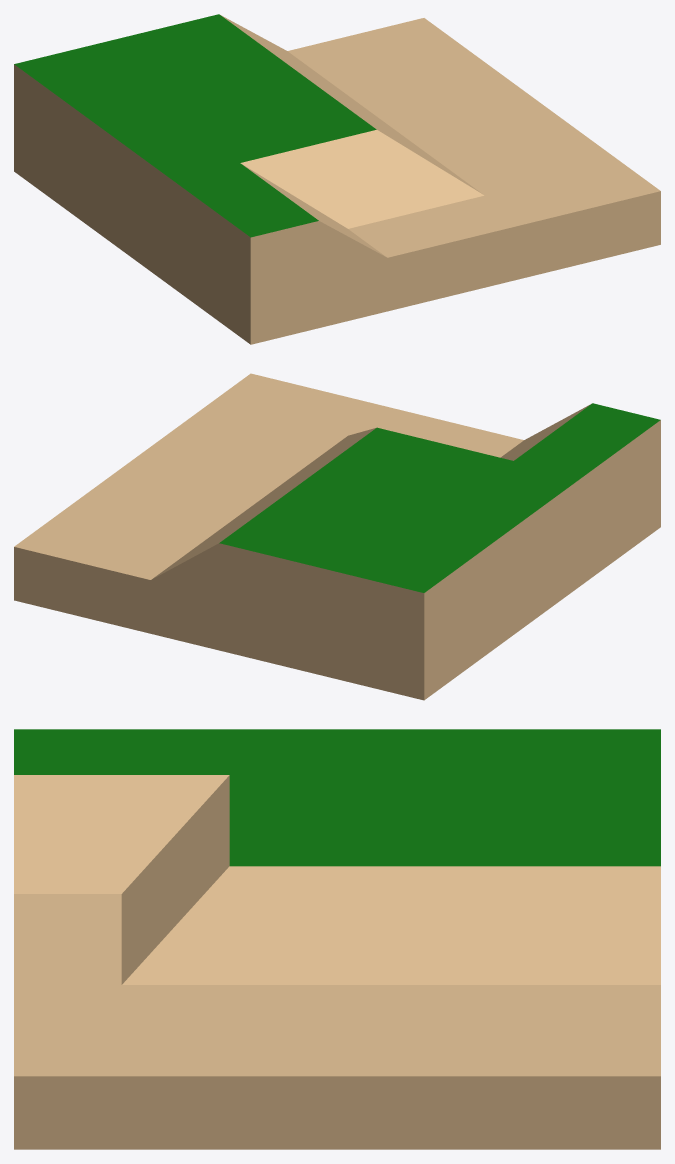
The model's file is tile_extra_wide_extrude_1.glb.
3 renders of one model, top to bottom at view 1: azimuth 30°, elevation 25°; view 2: azimuth 150°, elevation 25°; view 3: azimuth 270°, elevation 25°, orthographic. The views are drawn at different scales.
Visible parts, largest first — view 1: Plane.017; view 2: Plane.017; view 3: Plane.017.
Boxes of the visible parts, x1,y1,x2,y2 form: Plane.017: (14,14,660,344); Plane.017: (14,373,660,700); Plane.017: (14,729,660,1149).
Bounding box in the file's own units: 2 × 0.5 × 2.
